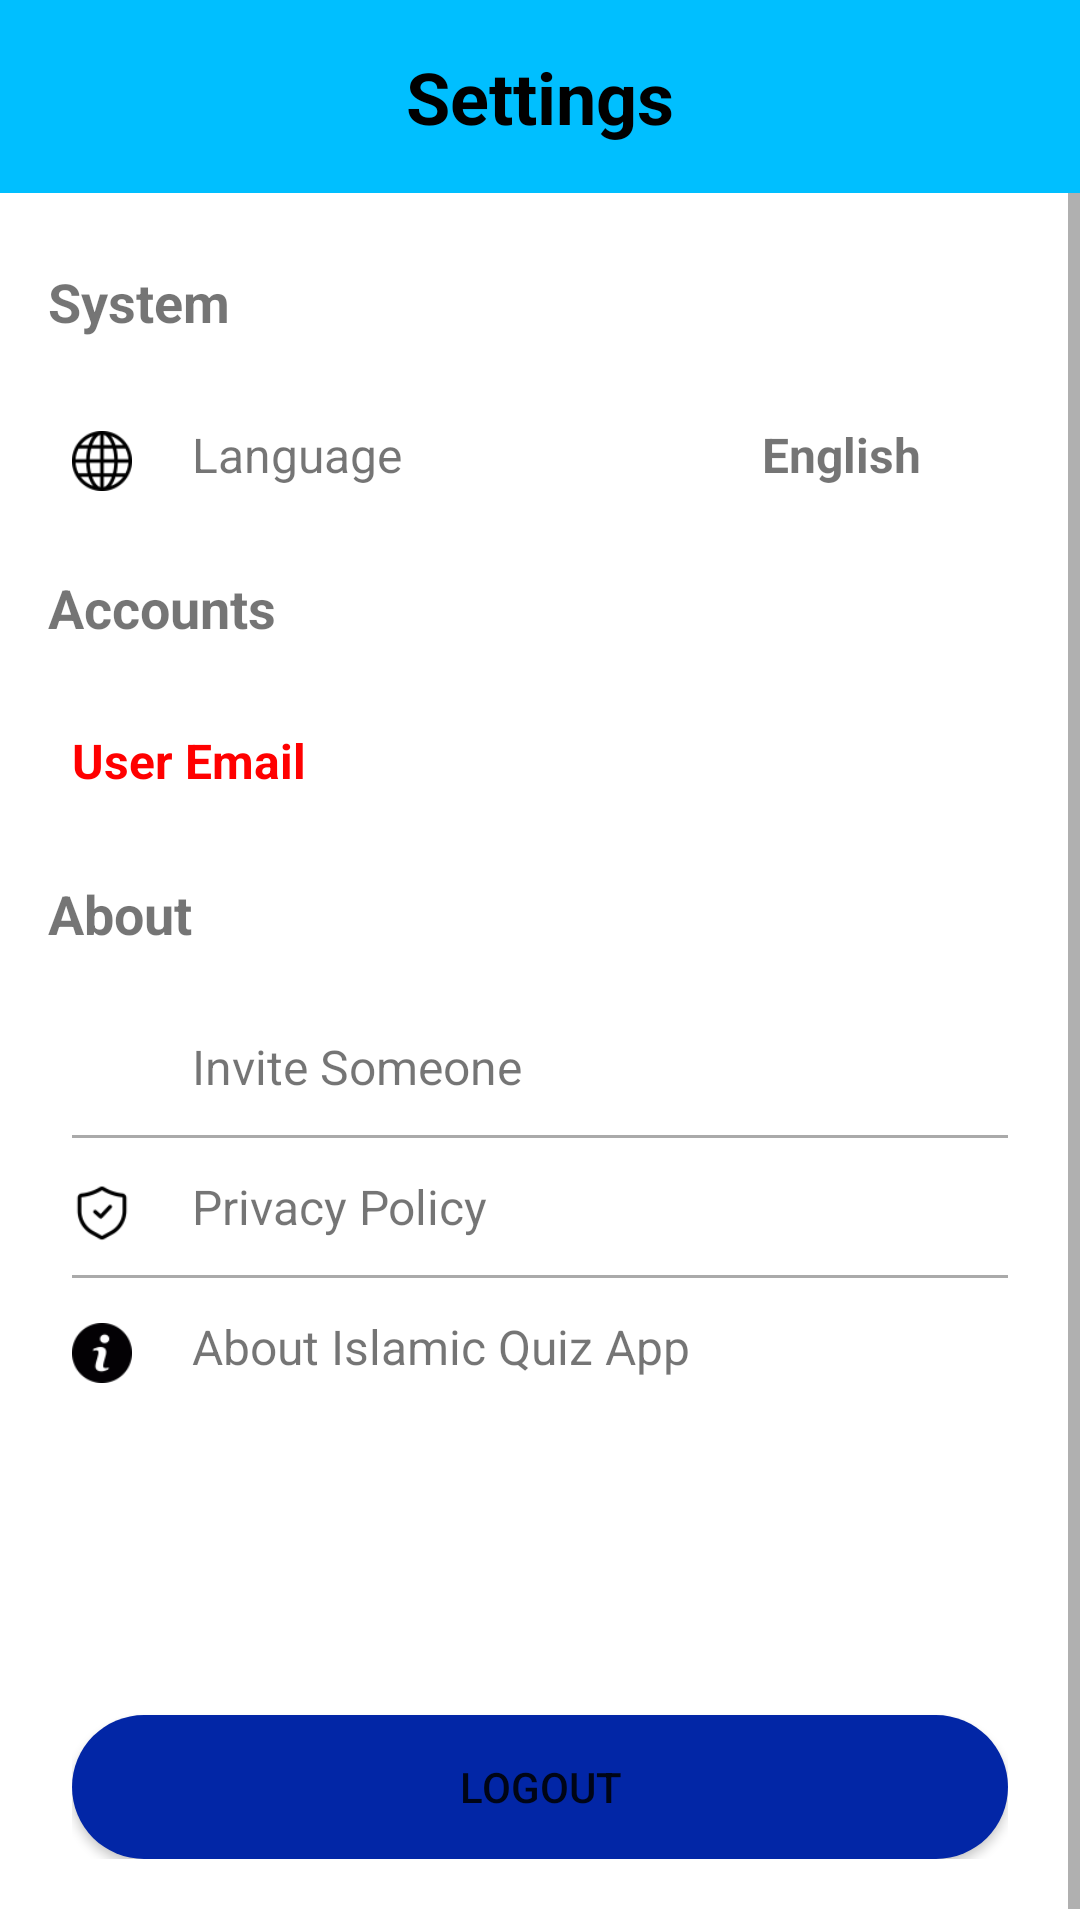

Icons on this 1080×1920 Android screen, each with the point to tap as point (x, y):
insurance: point (102, 1213)
world: point (102, 461)
